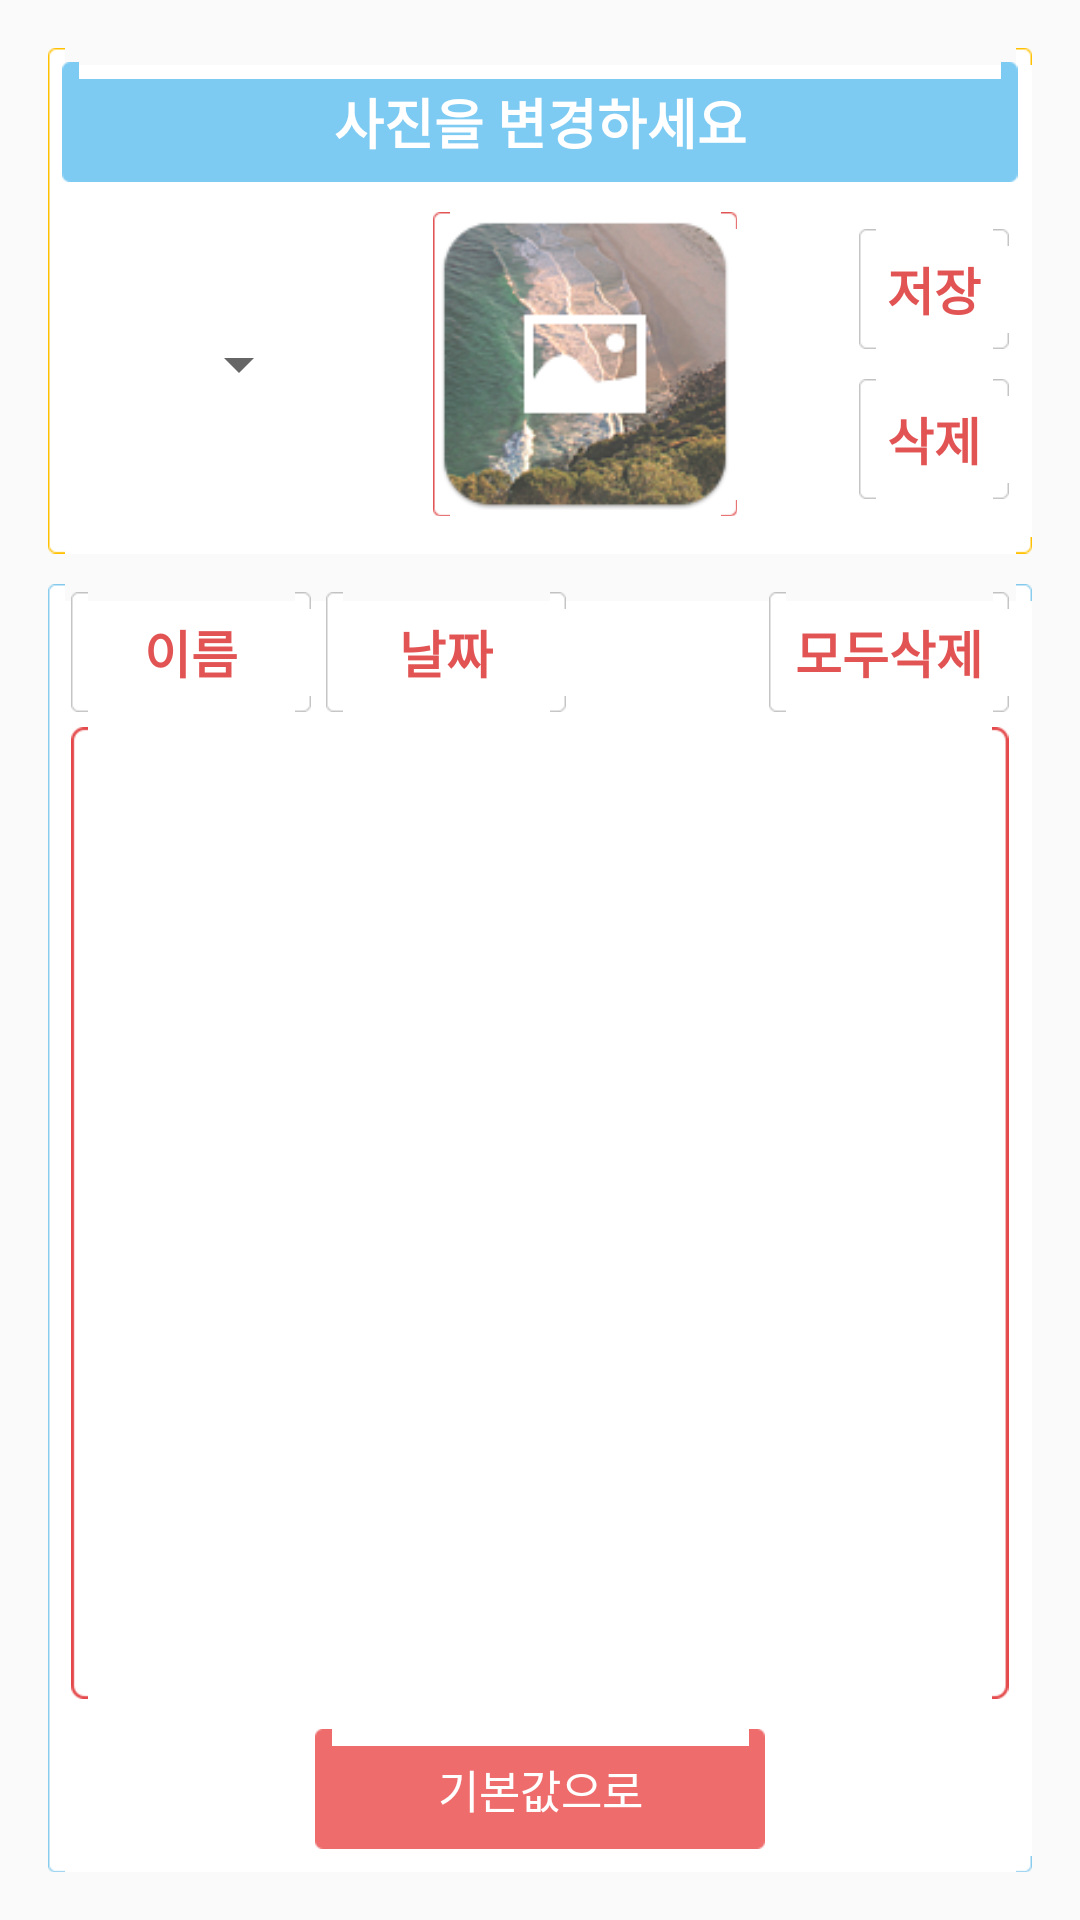

Named icons in this screenshot (1080px×1920px) and their bounding boxes, (x1, y1, x2, y2):
photo add: (435, 214, 735, 514)
